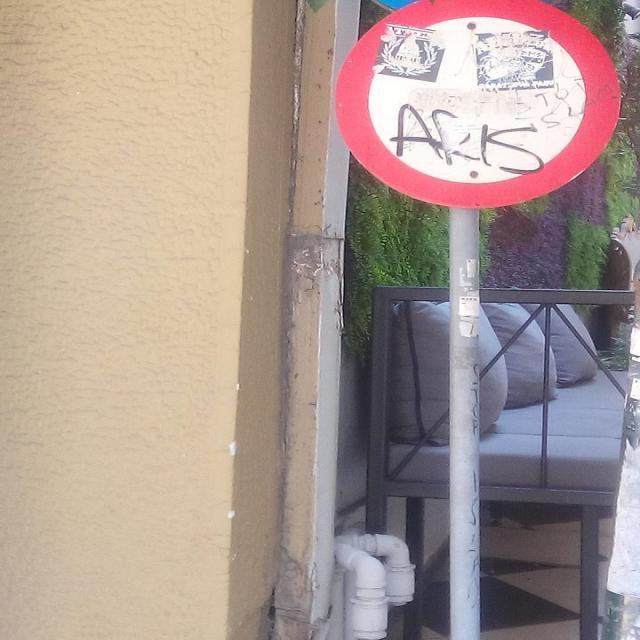nonspitting: (391, 104, 544, 178)
